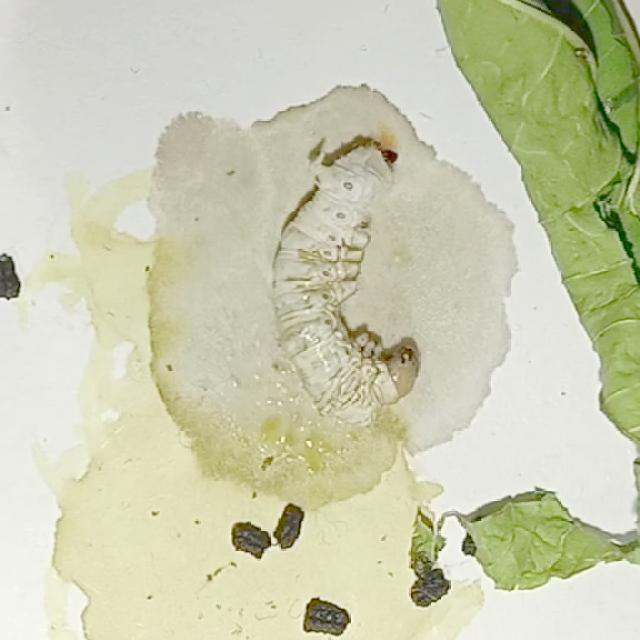Grasserie: (249, 123, 437, 447)
